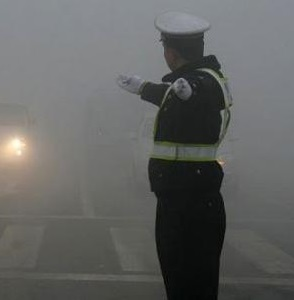person: (112, 9, 235, 298)
